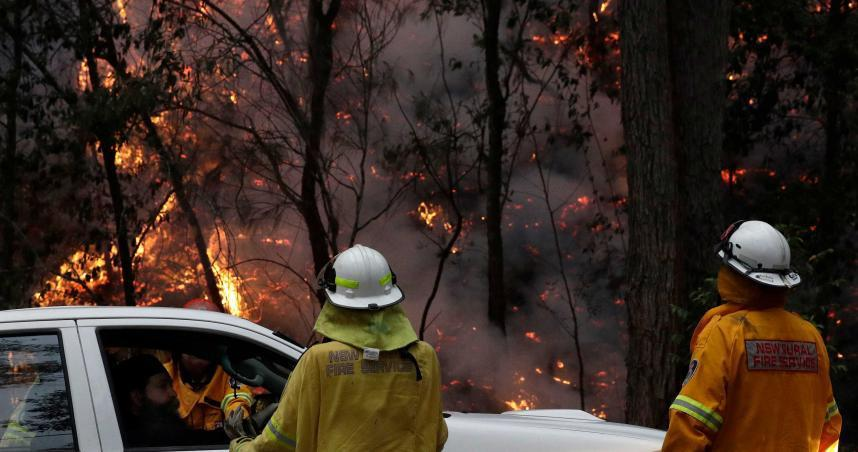fire: (53, 0, 294, 332), (484, 325, 618, 419), (409, 180, 475, 271)
